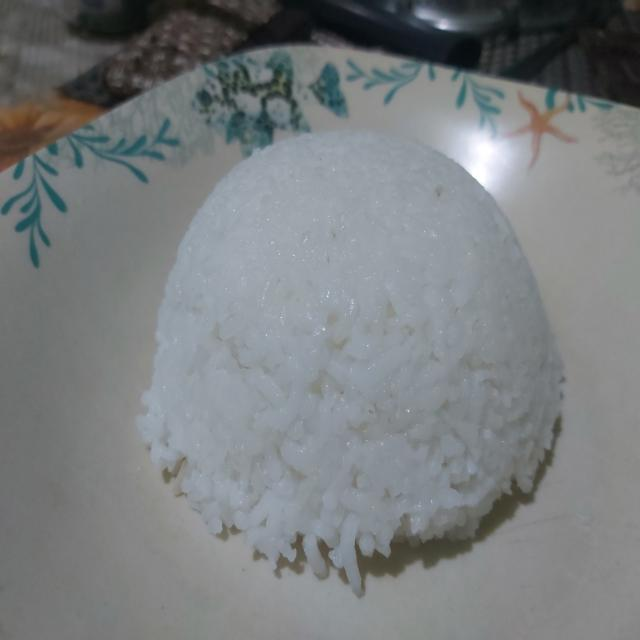Chicken -Chicken Inasal-: (137, 121, 580, 568)
